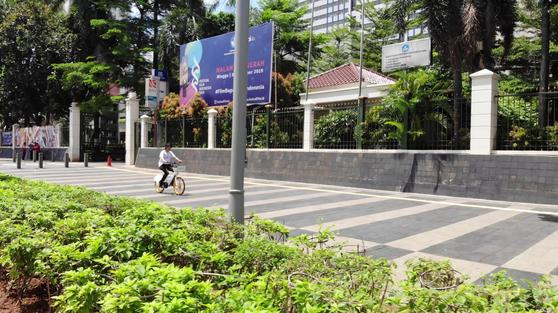bike: (144, 155, 195, 202)
